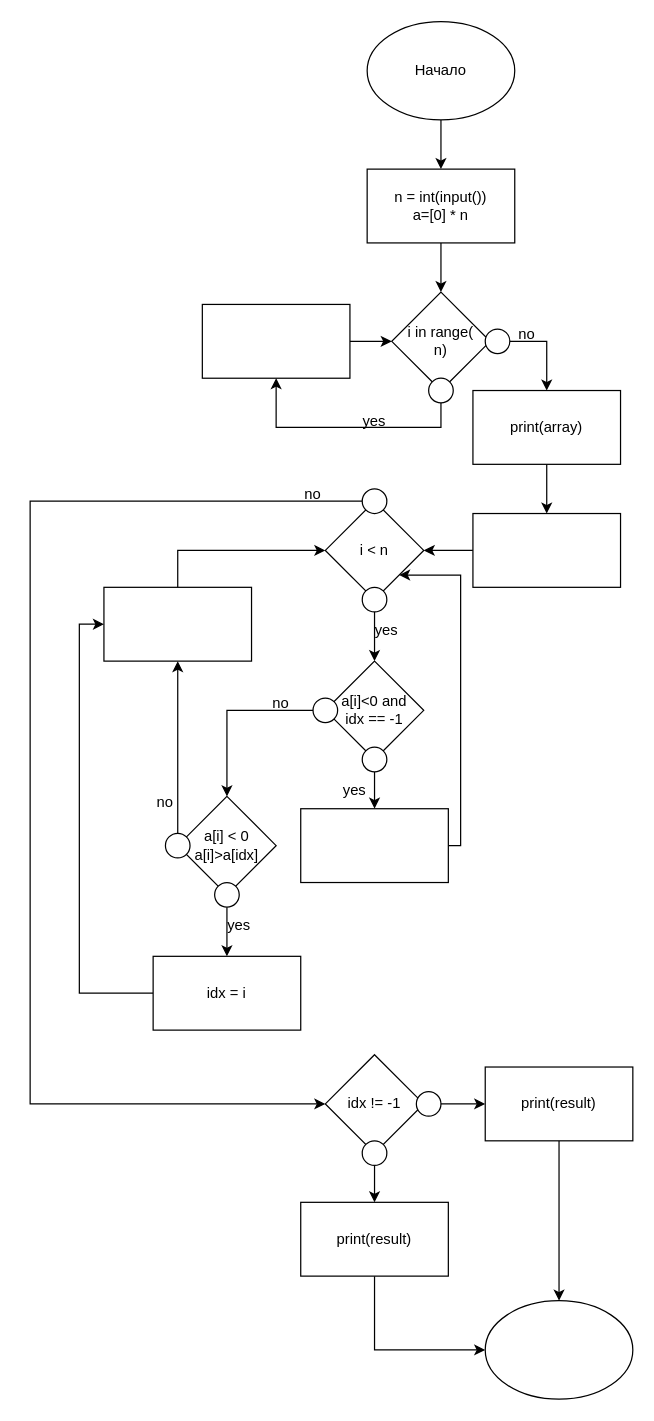
The diagram is 654 pixels wide and 1421 high, and some of its shapes have lost their labels. The shapes that lost their labels are listed below. From the top down, each one's centre as x and y in pixels, then its label:
pixel 275 340: a[i]=int((random() *21) - 11)
pixel 546 549: i = 0 idx = -1
pixel 177 623: i += 1
pixel 374 845: idx = i i += 1
pixel 558 1349: Конец
